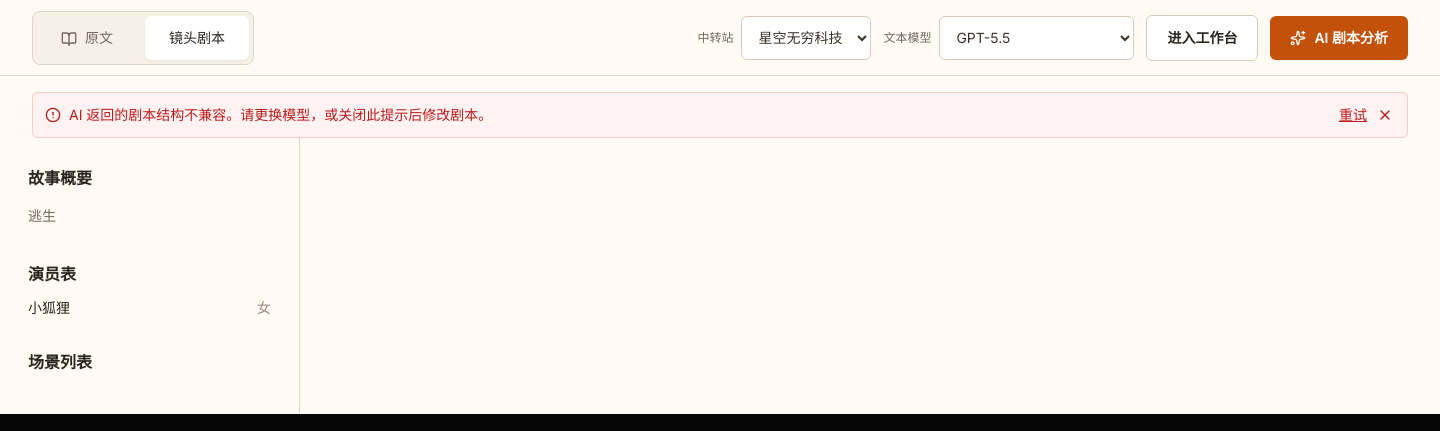
Test: StageScript GPT workflow › collapses legacy schema errors into a dismissible alert
Expected: the message shows "AI 返回的剧本结构不兼容", [69,106,492,123]
Click the button named "关闭错误提示" at (1385, 115), box [1375,105,1395,125]
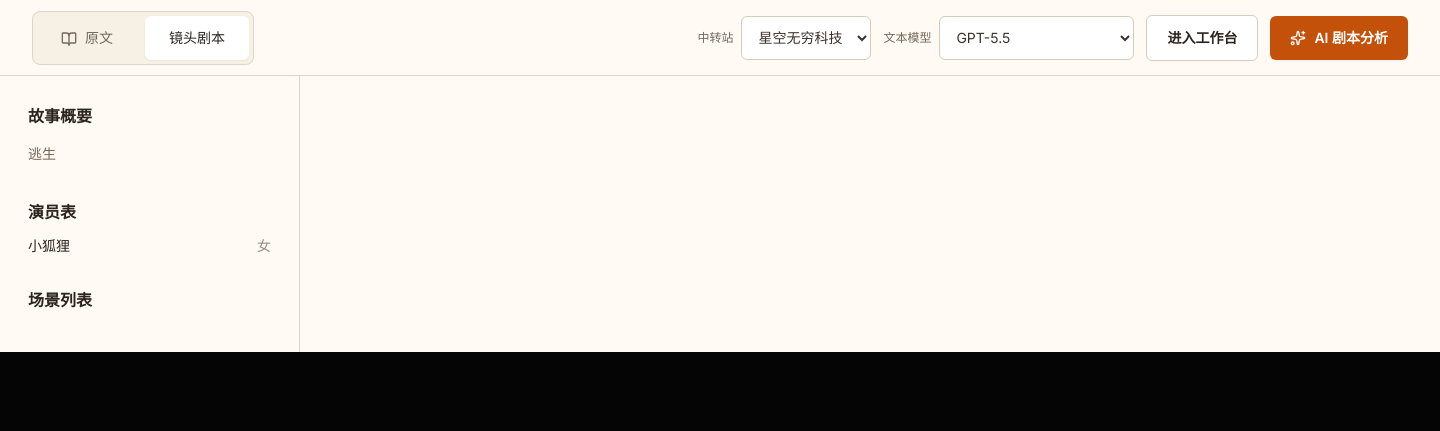
Expected: the message "AI 返回的剧本结构不兼容。请更换模型，或关闭此提示后修改剧本。 重试" is gone
